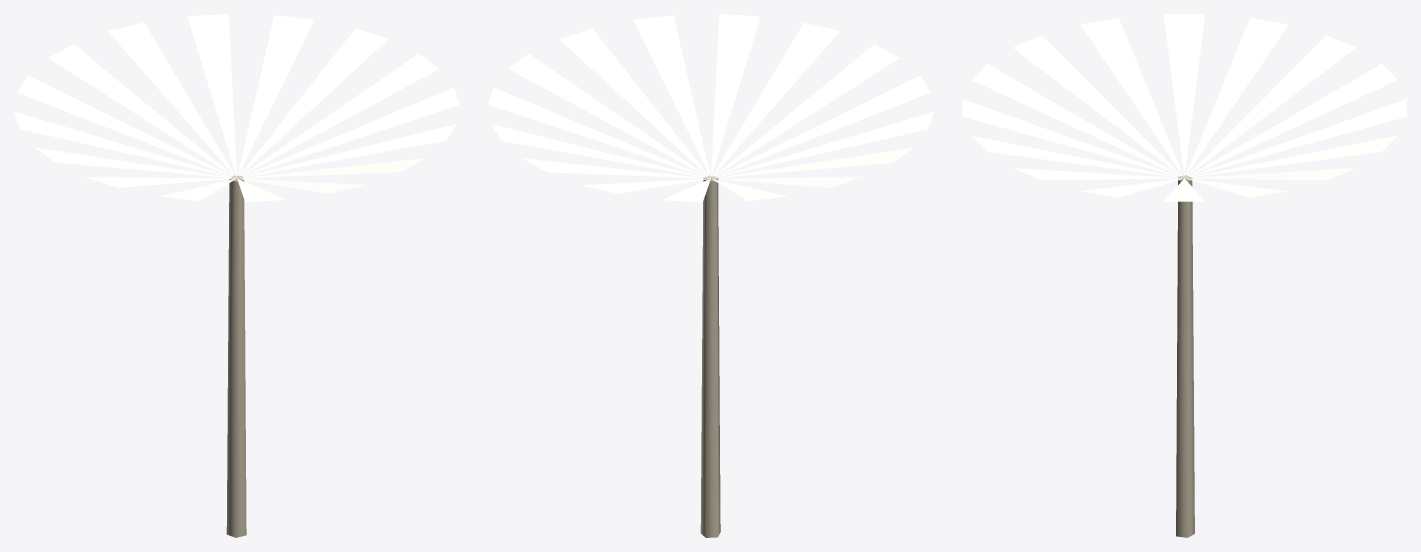
Rendered from schirmchen.glb.
3 renders of one model, left to right at view 1: azimuth 30°, elevation 25°; view 2: azimuth 150°, elevation 25°; view 3: azimuth 270°, elevation 25°, orthographic.
Visible parts, largest first — view 1: schirmchen_lod0; view 2: schirmchen_lod0; view 3: schirmchen_lod0.
Part boxes in pixels (x1,y1,x2,y2): schirmchen_lod0: (14, 14, 459, 537); schirmchen_lod0: (488, 14, 933, 537); schirmchen_lod0: (962, 14, 1406, 537).
Size of what is drawn, in the model's own units: 0.8495 by 0.8987 by 0.8495.
